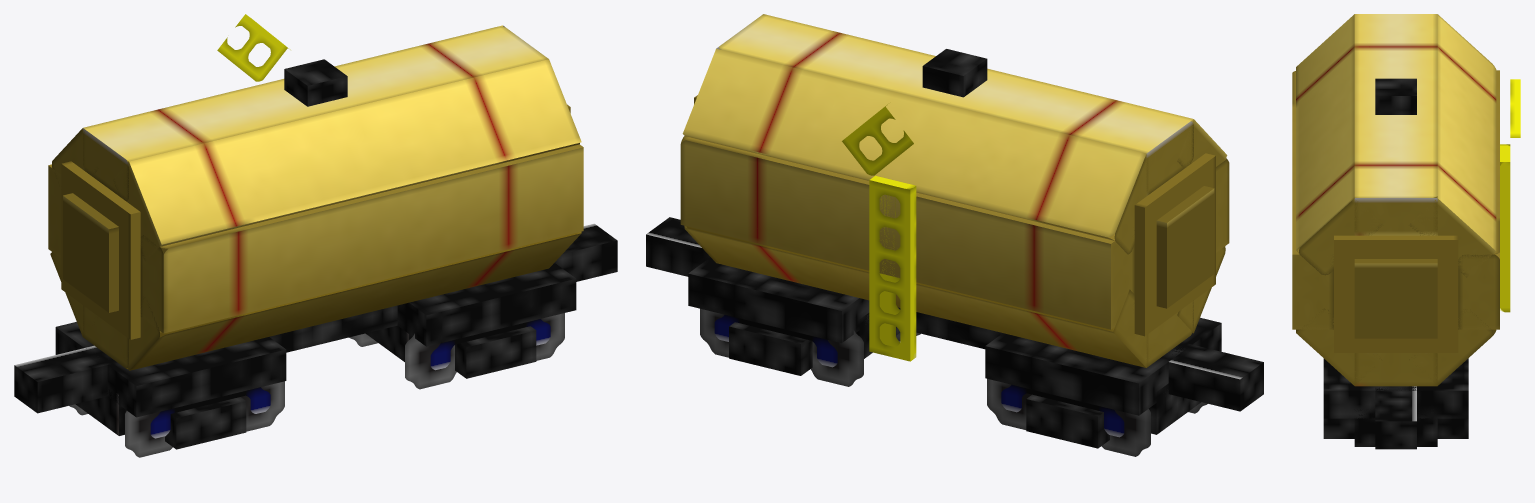
Rendered from tank_1.obj.
The picture shows the model from 3 angles, left to right: view 1: azimuth 30°, elevation 25°; view 2: azimuth 150°, elevation 25°; view 3: azimuth 270°, elevation 25°; orthographic projection. The views are drawn at different scales.
Visible parts, largest first — view 1: box16, box8, box11, box6, box12, box14, box9, box20, box25, box18, box15, box4 (+8 smaller); view 2: box17, box10, box11, box7, box14, box12, box9, box13, box20, box18, box25, box15 (+9 smaller); view 3: box11, box17, box16, box20, box18, box9, box10, box8, box19, box12, box13, box0 (+5 smaller).
Boxes of the visible parts, x1,y1,x2,y2 form: box16: (113, 59, 581, 260); box8: (140, 143, 583, 333); box11: (83, 25, 548, 201); box6: (123, 232, 581, 370); box12: (14, 223, 617, 413); box14: (55, 321, 286, 417); box9: (397, 263, 576, 346); box20: (61, 104, 570, 339); box25: (69, 313, 564, 457); box18: (63, 193, 118, 312); box15: (455, 326, 536, 378); box4: (165, 397, 246, 449); box17: (682, 48, 1156, 254); box10: (680, 136, 1134, 329); box11: (716, 14, 1193, 195); box7: (684, 225, 1149, 367); box14: (985, 317, 1221, 415); box12: (646, 217, 1263, 411); box9: (688, 257, 869, 343); box13: (869, 176, 916, 361); box20: (694, 95, 1215, 336); box18: (1156, 186, 1214, 308); box25: (700, 308, 1207, 456); box15: (729, 322, 812, 375); box11: (1354, 14, 1437, 235); box17: (1409, 14, 1496, 277); box16: (1296, 14, 1382, 275); box20: (1334, 235, 1458, 352); box18: (1354, 259, 1437, 338); box9: (1323, 358, 1468, 418); box10: (1458, 70, 1499, 329); box8: (1292, 71, 1333, 329); box19: (1354, 353, 1437, 386); box12: (1375, 386, 1416, 449); box13: (1500, 144, 1510, 312); box0: (1375, 78, 1416, 114).
Bounding box in the file's own units: 3.62 × 2.05 × 1.38.
1 material, 1 textured.
